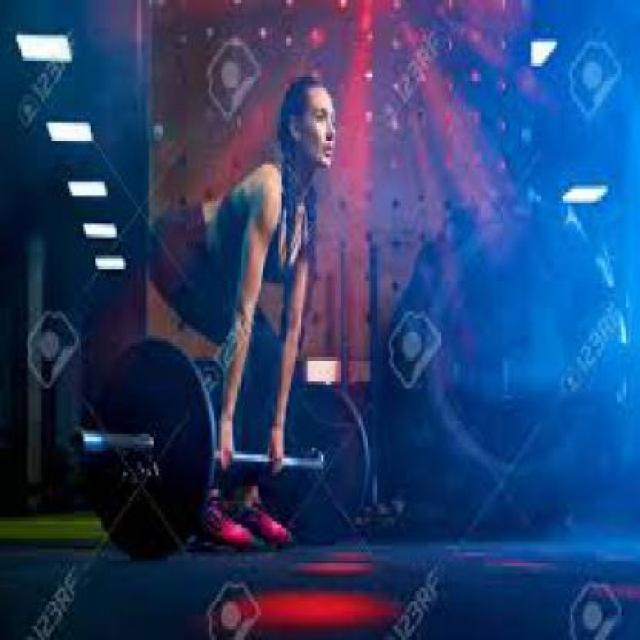Barbell: (65, 424, 90, 461)
